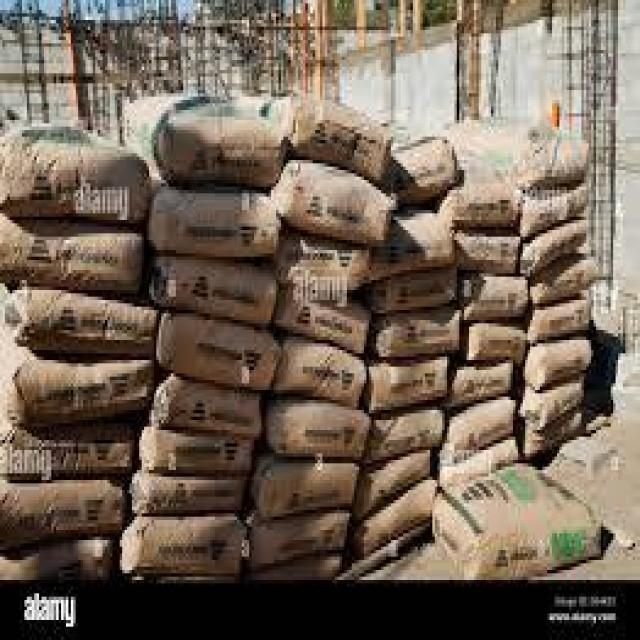gunny_bag: (427, 455, 607, 578), (129, 90, 285, 187), (2, 120, 147, 220), (239, 94, 393, 178), (0, 213, 145, 292), (12, 287, 159, 358), (9, 358, 154, 428), (1, 479, 124, 560), (273, 160, 393, 243), (149, 257, 282, 328), (149, 187, 281, 258), (154, 311, 278, 385), (361, 204, 456, 290), (120, 514, 248, 575), (4, 425, 138, 478), (351, 476, 436, 558), (250, 460, 359, 520), (270, 289, 370, 353), (266, 398, 369, 460), (152, 378, 261, 434), (271, 342, 366, 405), (137, 425, 254, 473), (275, 234, 370, 292), (354, 449, 432, 519), (129, 470, 244, 517), (253, 513, 351, 566), (389, 133, 458, 208), (366, 404, 446, 465), (445, 398, 516, 466), (374, 305, 460, 361), (0, 537, 112, 580), (367, 357, 449, 414), (366, 264, 457, 313), (520, 215, 586, 280), (519, 335, 592, 392), (442, 359, 515, 415), (522, 180, 590, 238), (516, 374, 585, 430), (439, 179, 517, 228), (529, 251, 595, 308), (459, 274, 529, 321), (461, 319, 529, 366), (528, 296, 589, 345), (456, 230, 520, 273)
